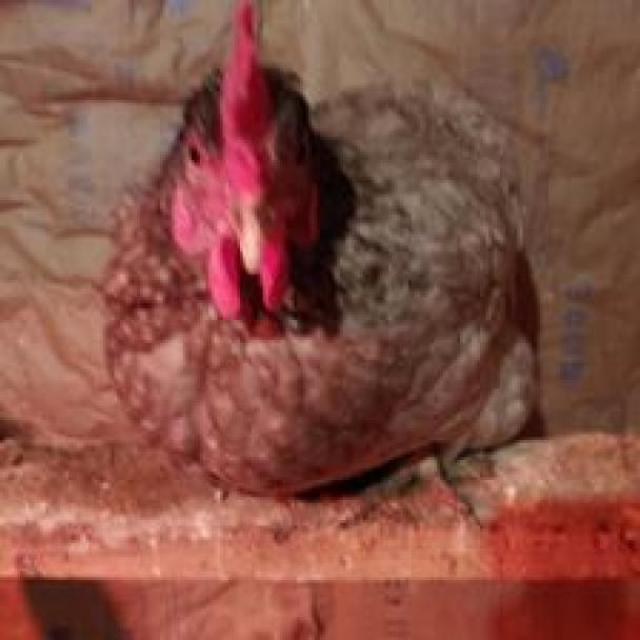Chicken: (97, 0, 555, 508)
